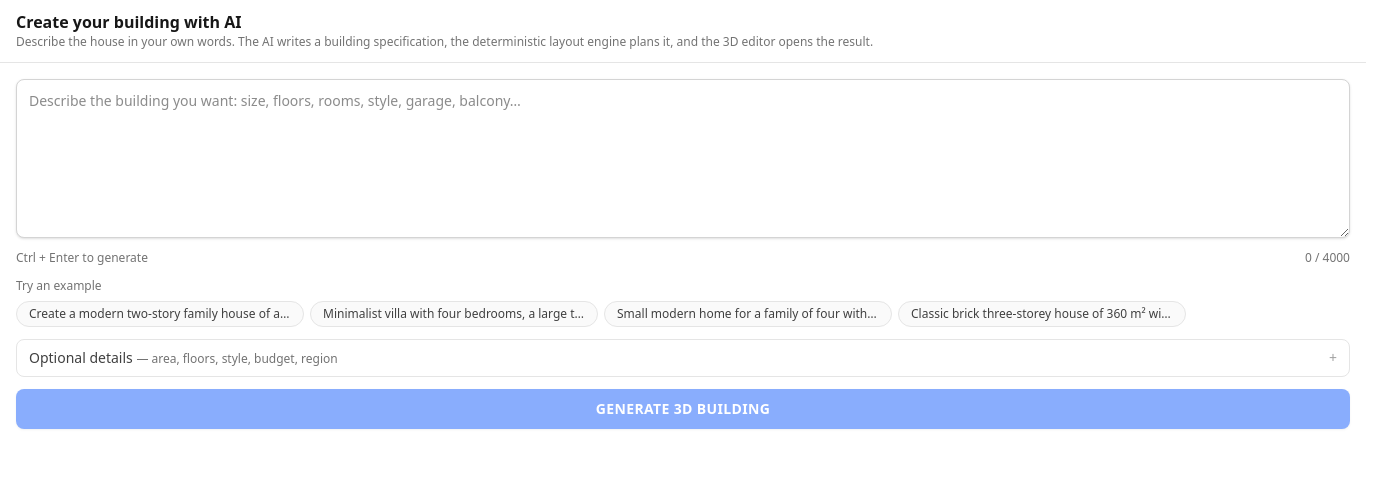
AIGeneratorPanel › shows the API error when a generation cannot start
The width and height of the screenshot is (1378, 479).
In the text box named "Building description": (683, 158) x1=16 y1=79 x2=1350 y2=238, type "Villa"
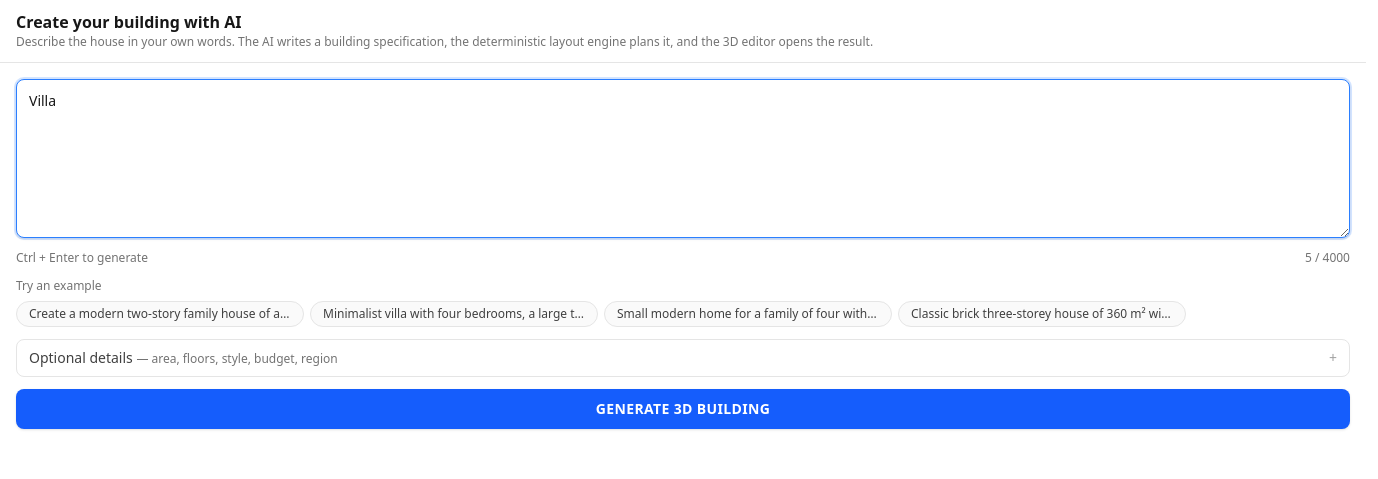
Click the button "Generate 3D building": (683, 408) x1=16 y1=388 x2=1350 y2=428
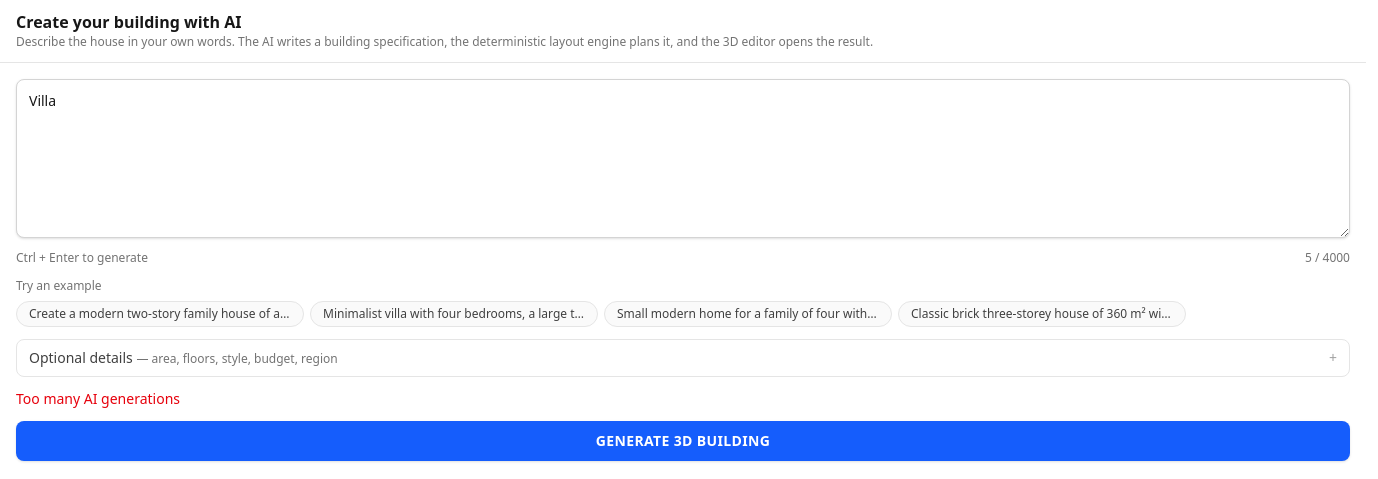
Result: the message reads "Too many AI generations" at x1=16 y1=388 x2=180 y2=408
